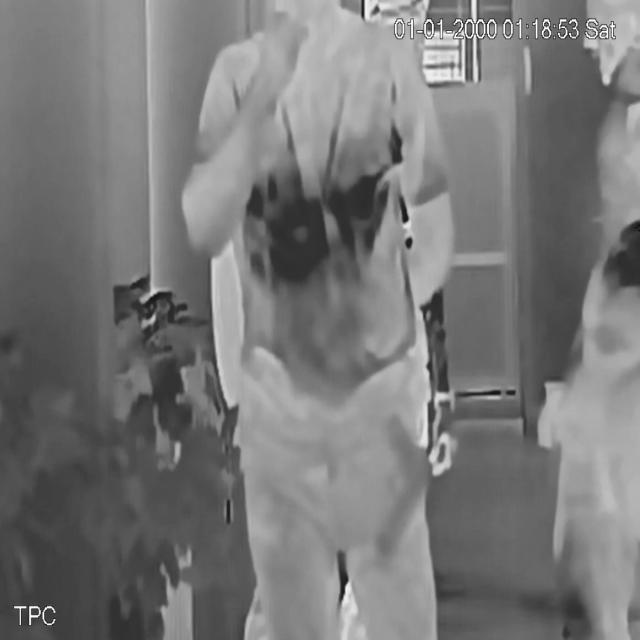Weapon: (372, 413, 442, 573)
